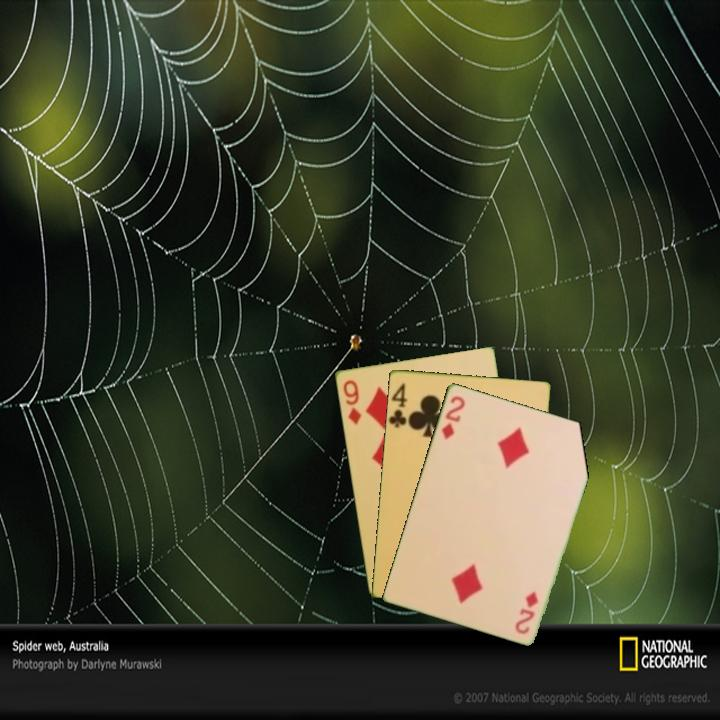2d: (438, 392, 468, 442), (513, 587, 541, 637)
4c: (386, 379, 409, 430)
9d: (339, 376, 364, 428)
